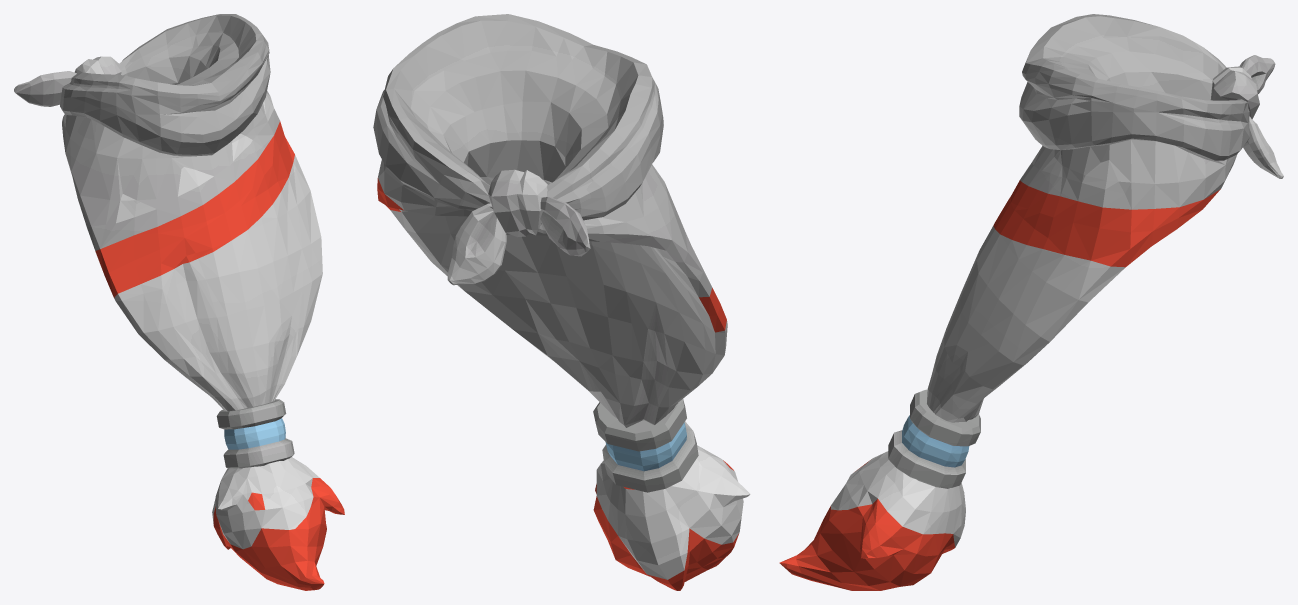
The model's file is CharSkyKid_Wing_ColorBrushShawl.glb.
The picture shows the model from 3 angles, left to right: view 1: azimuth 30°, elevation 25°; view 2: azimuth 150°, elevation 25°; view 3: azimuth 270°, elevation 25°; orthographic projection. The views are drawn at different scales.
Parts seen in each view (by area): view 1: CharSkyKid_Wing_ColorBrushShawl; view 2: CharSkyKid_Wing_ColorBrushShawl; view 3: CharSkyKid_Wing_ColorBrushShawl.
Part boxes in pixels (x1,y1,x2,y2): CharSkyKid_Wing_ColorBrushShawl: (14, 14, 344, 590); CharSkyKid_Wing_ColorBrushShawl: (373, 14, 750, 590); CharSkyKid_Wing_ColorBrushShawl: (779, 14, 1283, 590).
Size of the model in its own units: 4.68 by 9.39 by 7.81.
Materials: 1 (1 with a texture image).
